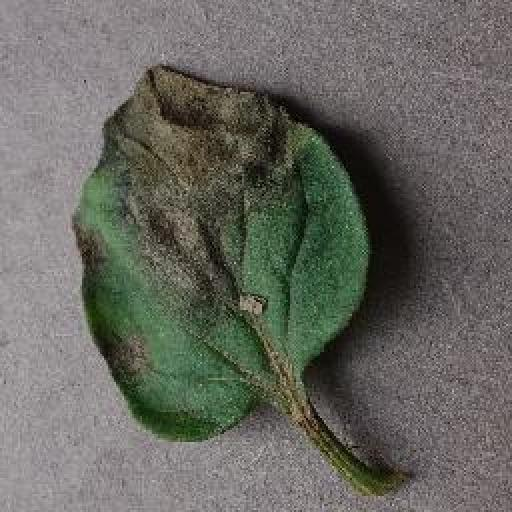disease_tomato: (73, 63, 372, 441)
